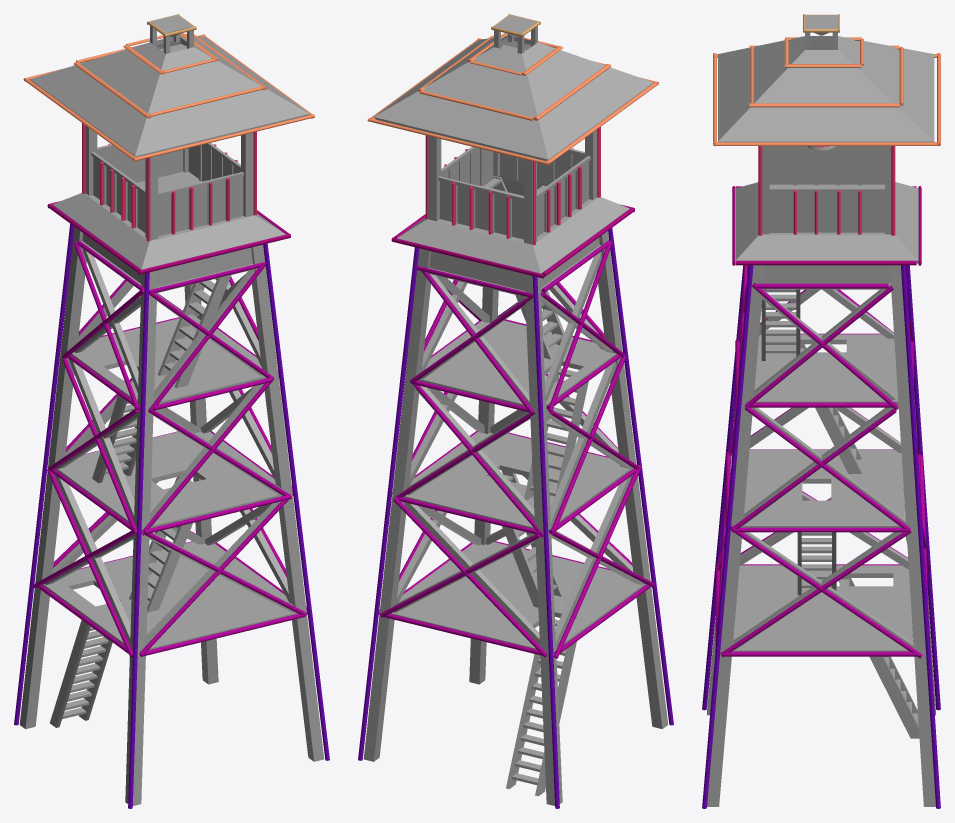
Rendered from hinomiyagura unity.fbx.
The picture shows the model from 3 angles, left to right: view 1: azimuth 30°, elevation 25°; view 2: azimuth 150°, elevation 25°; view 3: azimuth 270°, elevation 25°; orthographic projection. The views are drawn at different scales.
Parts seen in each view (by area): view 1: pCube1, pPlane37, pCylinder47, pPlane2, polySurface1, pPlane3, pCylinder1, pPlane4, pPlane40, pCylinder48, bou5, pPlane32 (+14 smaller); view 2: pCube1, pPlane37, pCylinder47, pPlane2, polySurface1, pPlane3, pCylinder1, pPlane4, pPlane40, bou5, pCylinder48, bou6 (+14 smaller); view 3: pPlane37, pCube1, pCylinder47, pPlane2, polySurface1, pPlane3, pCylinder1, pPlane39, pPlane4, pCylinder48, bou5, bou6 (+12 smaller).
Boxes of the visible parts, x1=… form: pCube1: x1=19, y1=227, x2=324, y2=805; pPlane37: x1=29, y1=35, x2=309, y2=157; pCylinder47: x1=33, y1=241, x2=307, y2=657; pPlane2: x1=42, y1=541, x2=296, y2=650; polySurface1: x1=52, y1=193, x2=285, y2=292; pPlane3: x1=55, y1=431, x2=282, y2=528; pCylinder1: x1=14, y1=223, x2=329, y2=808; pPlane4: x1=67, y1=318, x2=266, y2=404; pPlane40: x1=97, y1=147, x2=243, y2=236; pCylinder48: x1=23, y1=33, x2=314, y2=161; bou5: x1=44, y1=474, x2=289, y2=645; pPlane32: x1=50, y1=620, x2=112, y2=727; pCube1: x1=363, y1=185, x2=668, y2=805; pPlane37: x1=373, y1=35, x2=653, y2=160; pCylinder47: x1=379, y1=240, x2=654, y2=658; pPlane2: x1=391, y1=542, x2=644, y2=649; polySurface1: x1=397, y1=176, x2=629, y2=296; pPlane3: x1=404, y1=432, x2=630, y2=529; pCylinder1: x1=358, y1=228, x2=673, y2=808; pPlane4: x1=418, y1=320, x2=616, y2=409; pPlane40: x1=440, y1=152, x2=584, y2=239; bou5: x1=396, y1=476, x2=643, y2=647; pCylinder48: x1=367, y1=33, x2=658, y2=165; bou6: x1=409, y1=361, x2=630, y2=526; pPlane37: x1=718, y1=36, x2=934, y2=142; pCube1: x1=707, y1=265, x2=935, y2=806; pCylinder47: x1=715, y1=265, x2=929, y2=658; pPlane2: x1=732, y1=565, x2=912, y2=651; polySurface1: x1=735, y1=182, x2=918, y2=289; pPlane3: x1=731, y1=449, x2=904, y2=527; pCylinder1: x1=702, y1=265, x2=940, y2=808; pPlane39: x1=769, y1=146, x2=884, y2=232; pPlane4: x1=754, y1=334, x2=898, y2=405; pCylinder48: x1=713, y1=37, x2=940, y2=146; bou5: x1=733, y1=492, x2=913, y2=649; bou6: x1=743, y1=406, x2=905, y2=525.
Size of the model in its own units: 198 by 675 by 198.
